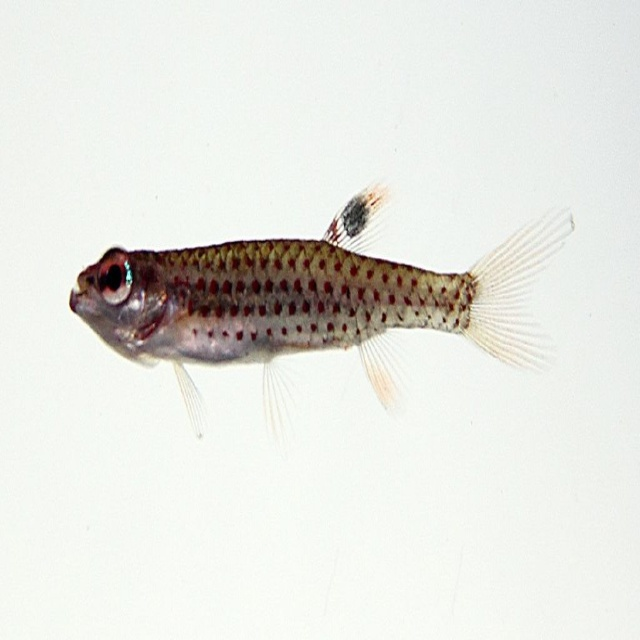Fish: (63, 181, 593, 443)
